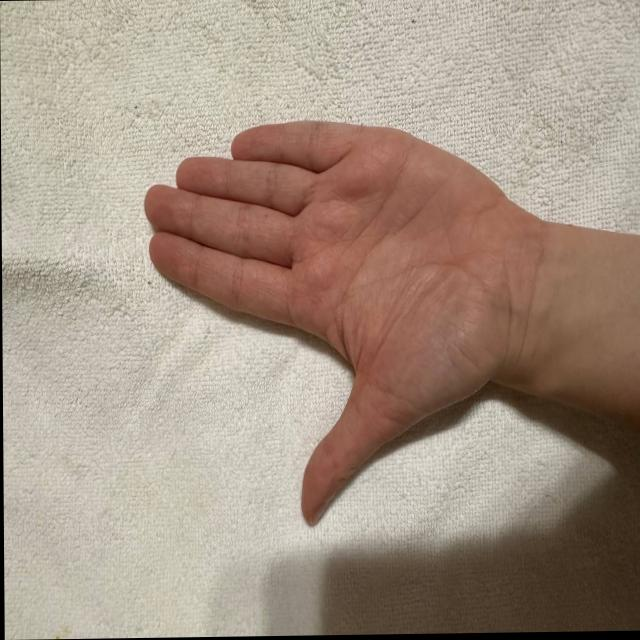v: (119, 94, 533, 530)
